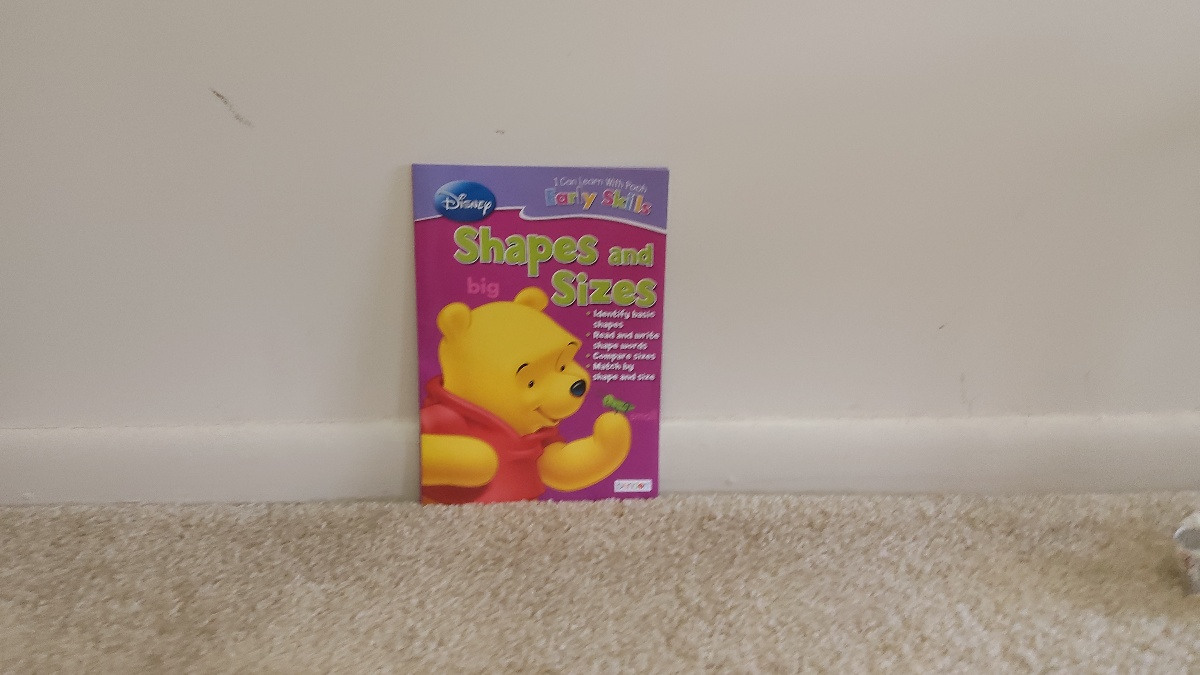book: (412, 163, 657, 500)
